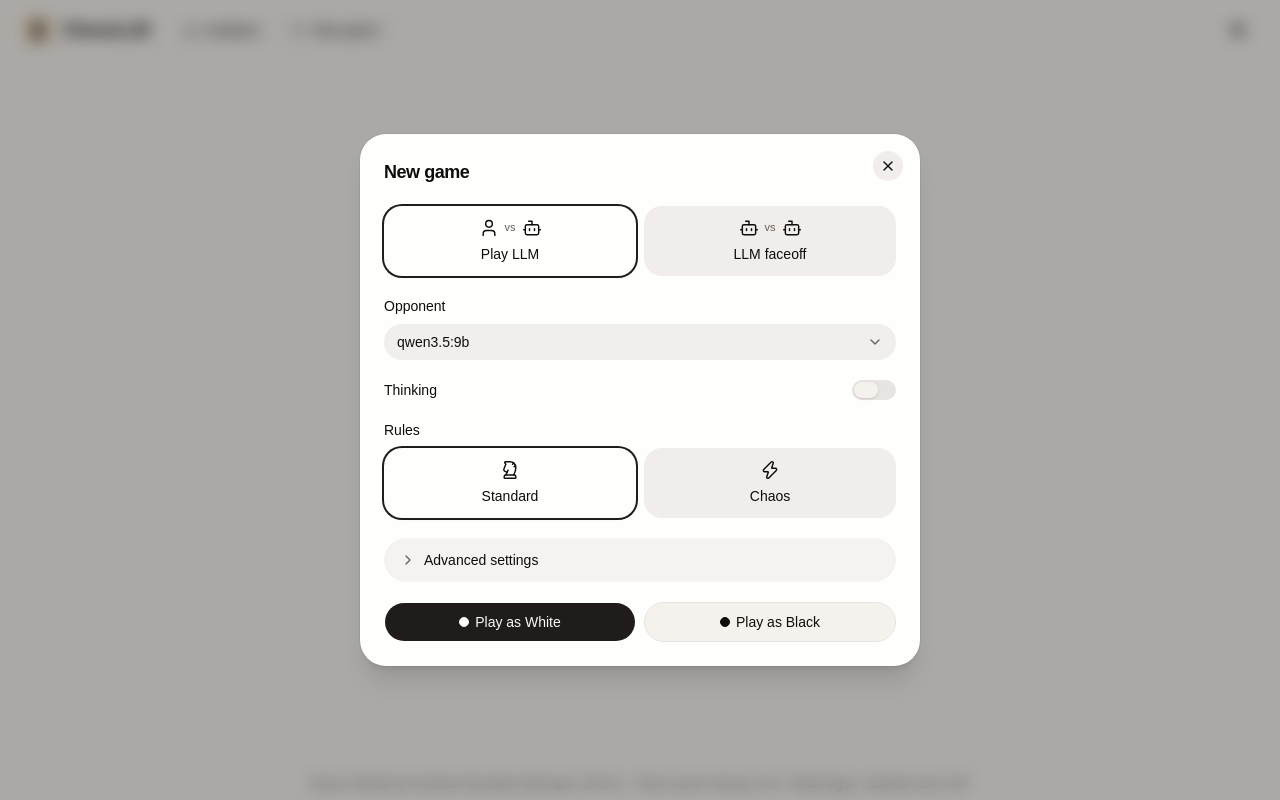
Scenario: with no current game › says so when the game started from the sheet cannot start
Step 1. Click the button "Play as White" → {"x": 510, "y": 622}, box [384, 602, 636, 642]
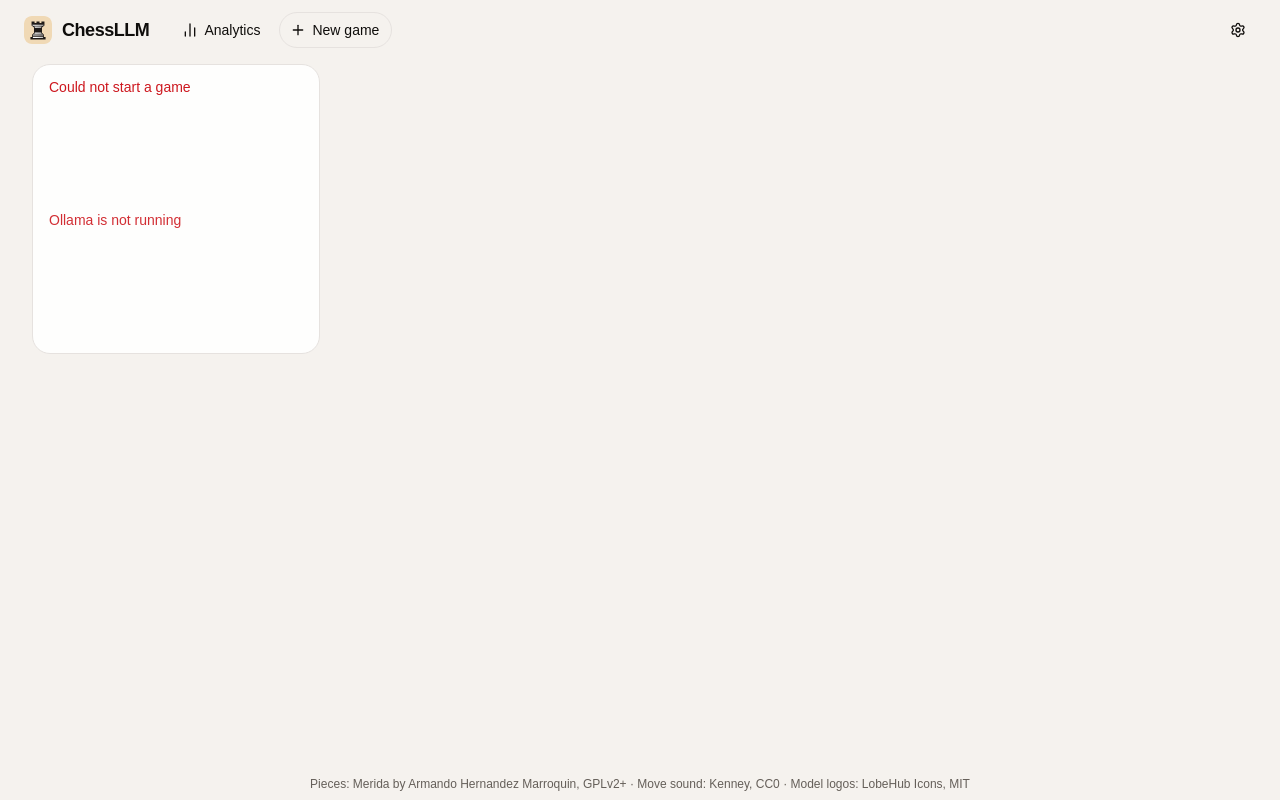
Result: the text "Could not start a game" is shown at [49, 79, 191, 95]
Result: the message shows "Ollama is not running" at [49, 212, 181, 228]
